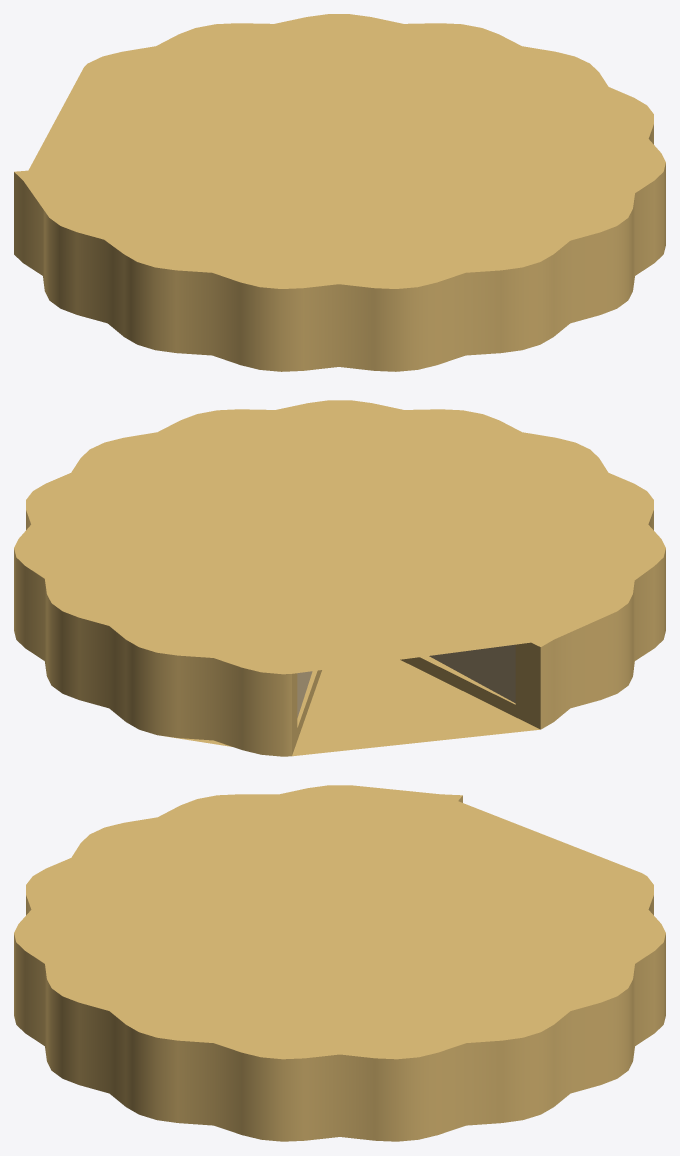
File: quiche.fbx
3 renders of one model, top to bottom at view 1: azimuth 30°, elevation 25°; view 2: azimuth 150°, elevation 25°; view 3: azimuth 270°, elevation 25°, orthographic.
Visible parts, largest first — view 1: crust; view 2: crust, filling1; view 3: crust.
Boxes of the visible parts, x1,y1,x2,y2 form: crust: (14, 14, 665, 371); crust: (14, 400, 665, 756); filling1: (297, 644, 515, 717); crust: (14, 785, 665, 1141).
Bounding box in the file's own units: 42.14 × 5.91 × 42.37.
